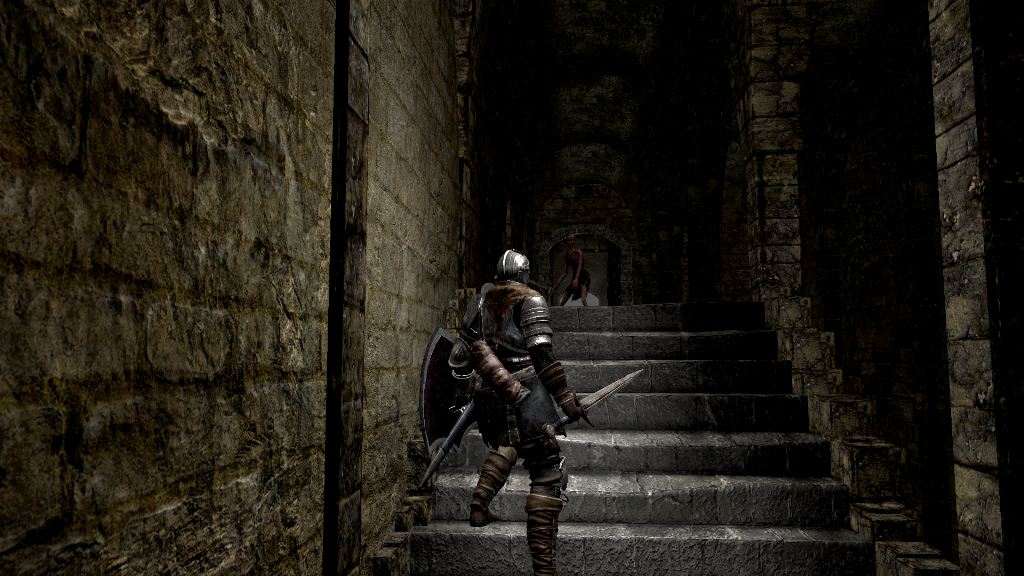hollow: (553, 233, 591, 306)
player: (417, 248, 646, 576)
